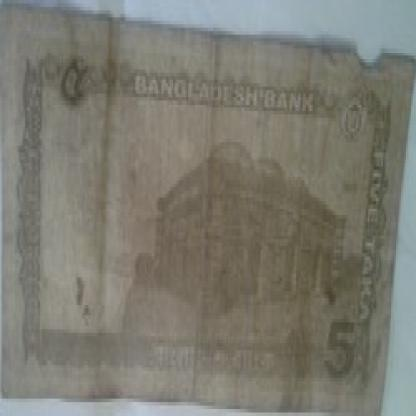Five Taka: (313, 305, 361, 395), (50, 42, 90, 111)
